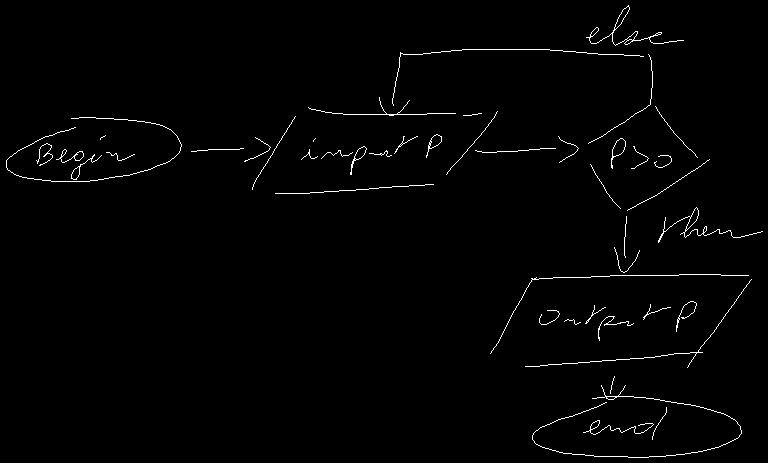arrow: (379, 49, 652, 115), (475, 136, 578, 162), (191, 137, 270, 161), (614, 216, 639, 272), (601, 376, 625, 399)
data: (490, 274, 751, 367), (252, 107, 497, 193)
decision: (588, 104, 709, 210)
terminator: (532, 396, 741, 457), (6, 117, 181, 181)
text: (539, 301, 696, 340), (301, 134, 441, 174), (36, 135, 134, 179), (586, 5, 683, 45), (658, 207, 762, 242), (583, 407, 666, 439), (611, 138, 671, 168)
